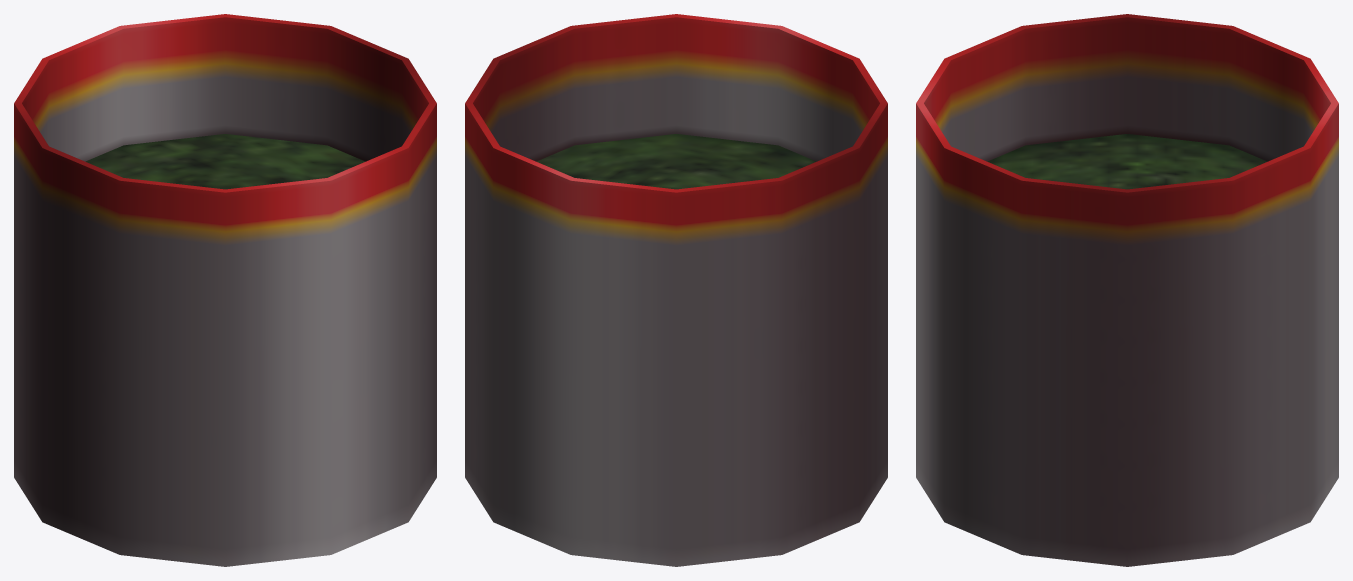
Rendered from jsf_Ingredient_NoriSeaweed_01.fbx.
3 renders of one model, left to right at view 1: azimuth 30°, elevation 25°; view 2: azimuth 150°, elevation 25°; view 3: azimuth 270°, elevation 25°, orthographic.
Visible parts, largest first — view 1: jsf_Ingredient_NoriSeaweed_01; view 2: jsf_Ingredient_NoriSeaweed_01; view 3: jsf_Ingredient_NoriSeaweed_01.
Part boxes in pixels (x1,y1,x2,y2): jsf_Ingredient_NoriSeaweed_01: [14, 14, 436, 566]; jsf_Ingredient_NoriSeaweed_01: [465, 14, 887, 566]; jsf_Ingredient_NoriSeaweed_01: [916, 14, 1338, 566].
Size of the model in its own units: 12.71 by 12.41 by 12.71.
